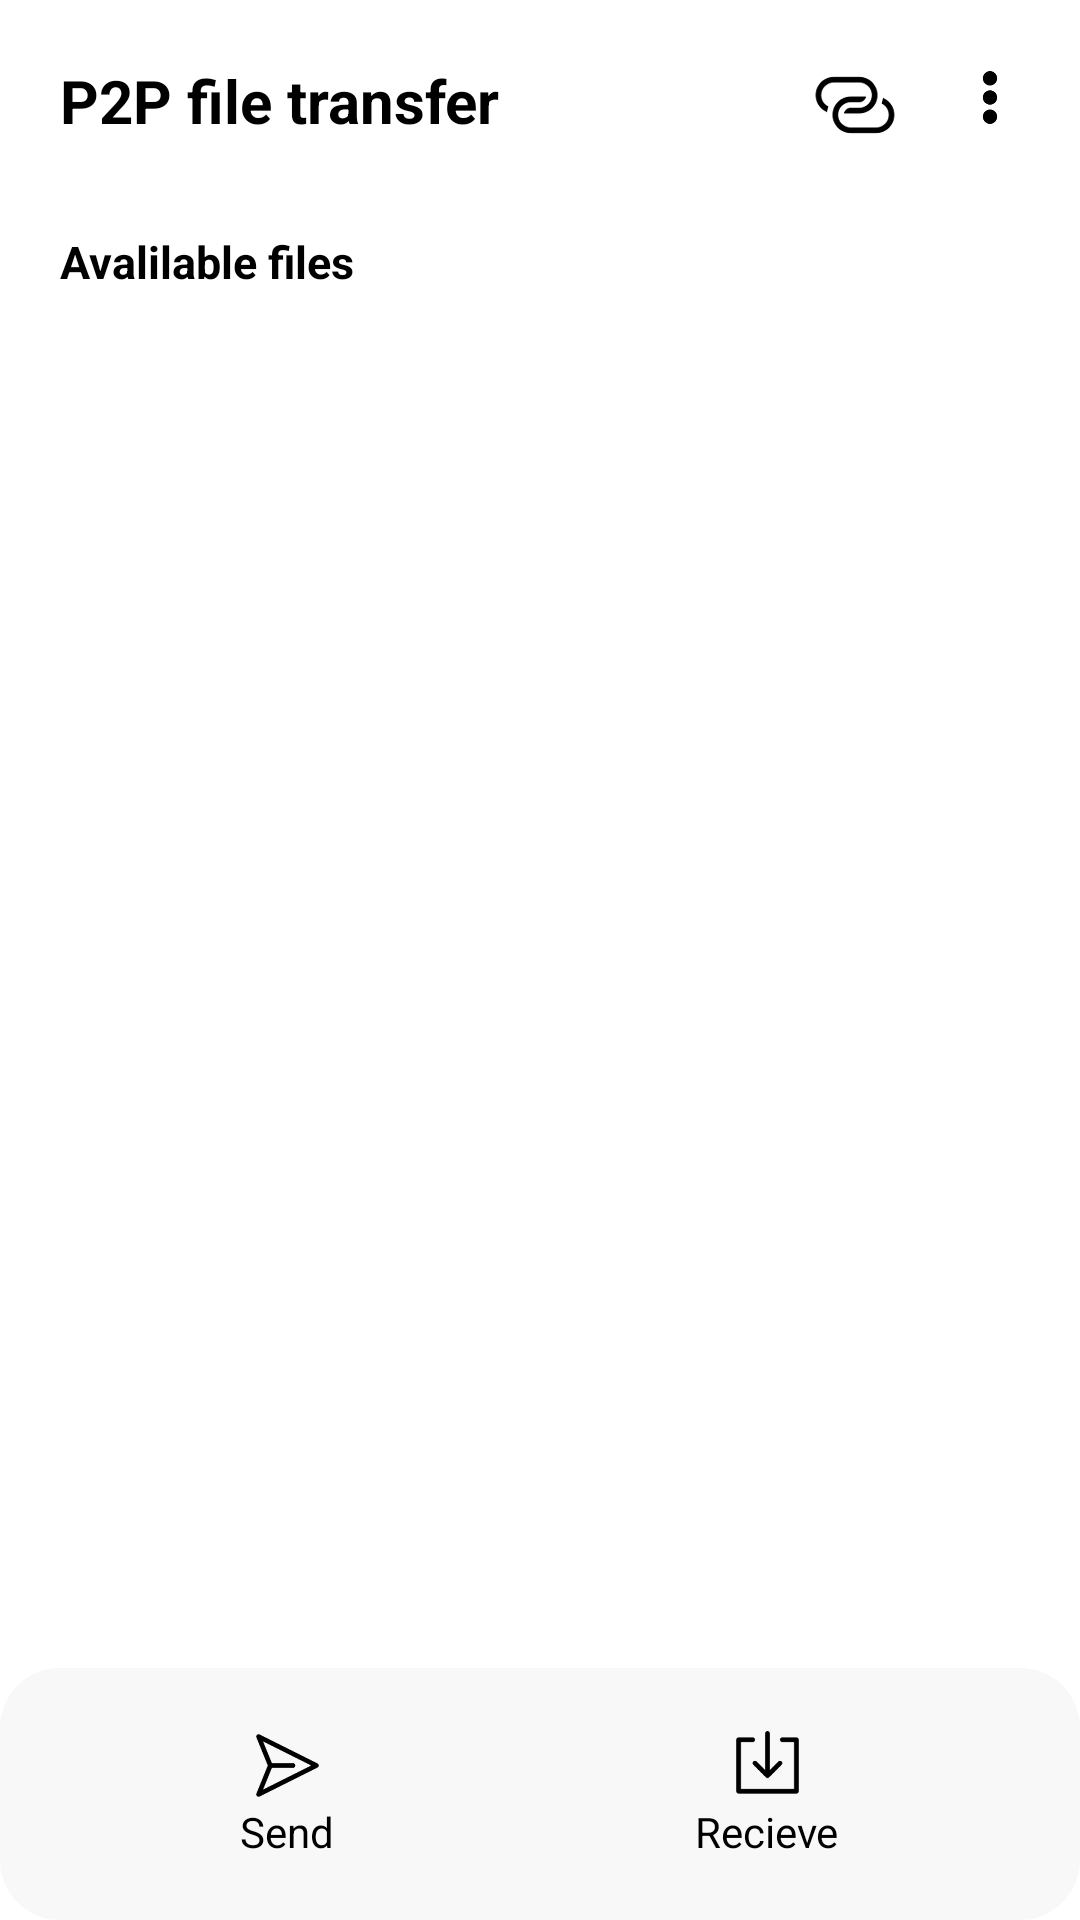

Icons on this 1080px×1920px Android screen, each with its box as (x1, y1, x2, y2):
download: (736, 1731, 799, 1794)
vertical: (983, 71, 997, 124)
